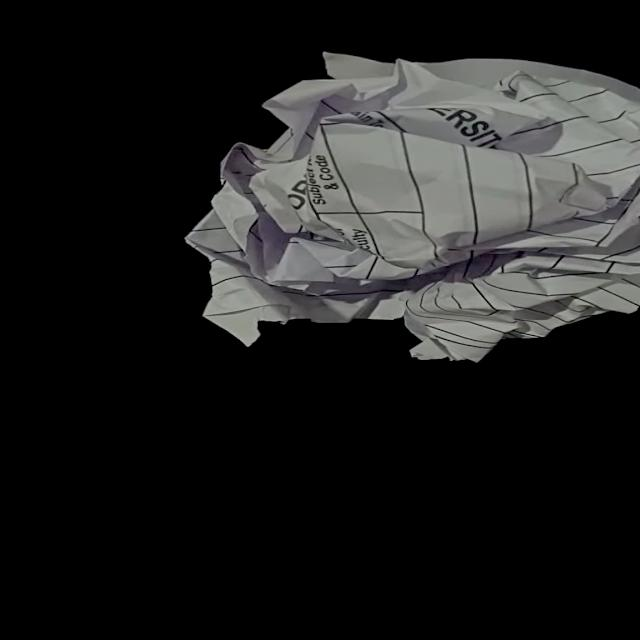PaperBall: (187, 54, 640, 359)
